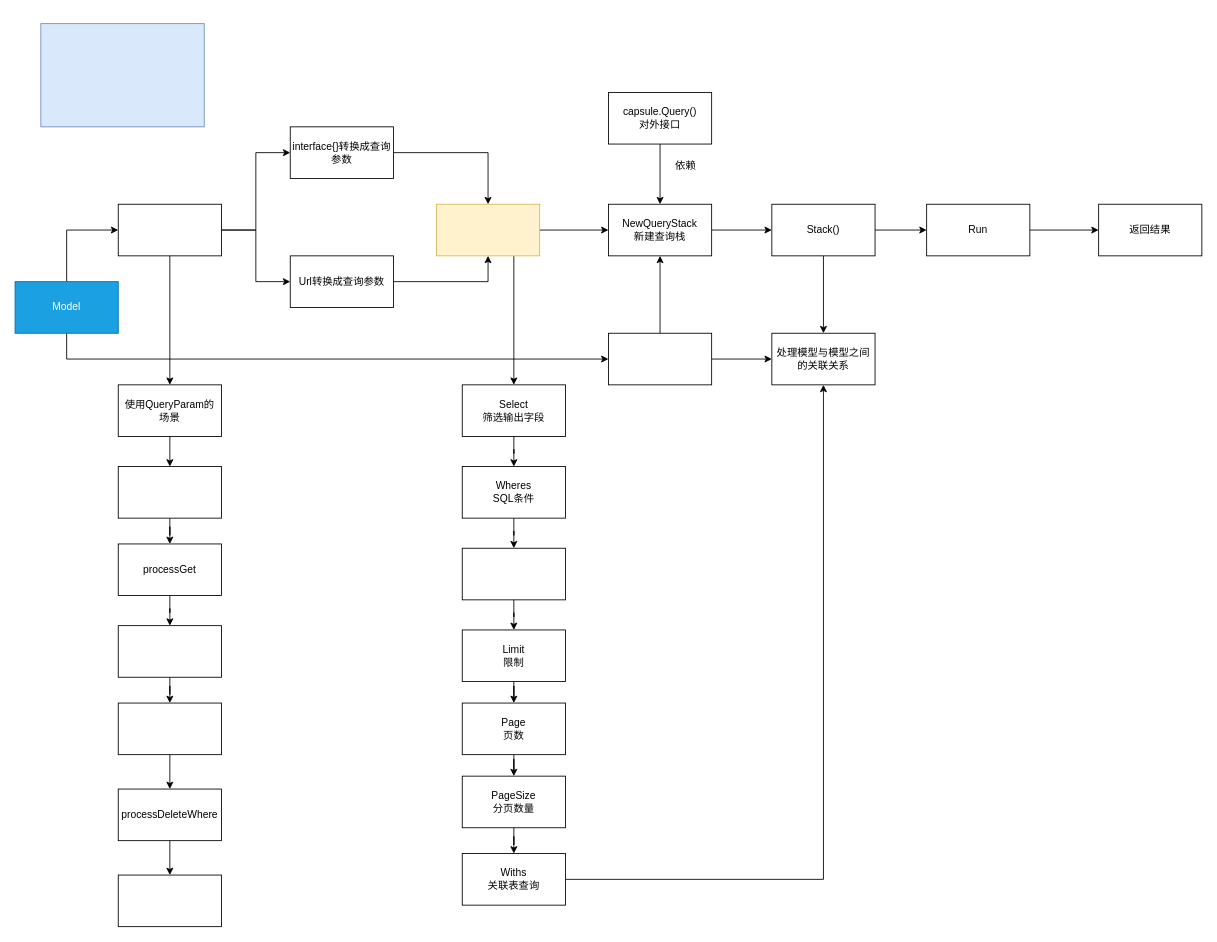
Some shapes in this 1217 by 942 pixel diagram are drawn without their labels. Here are the shapes that lost their labels. From the top down, the box of each, then its label:
(40, 23, 204, 127): 模型查询 模型的带参数查询
(117, 203, 221, 256): 查询
(436, 203, 540, 256): QueryParam
(608, 332, 712, 385): 提供与模型相关的各项数据： 表名 表列名
(117, 466, 221, 518): processFind
(461, 547, 565, 600): Orders 排序
(117, 625, 221, 677): processPaginate
(117, 702, 221, 755): processUpdateWhere
(117, 874, 221, 927): processDestroyWhere
